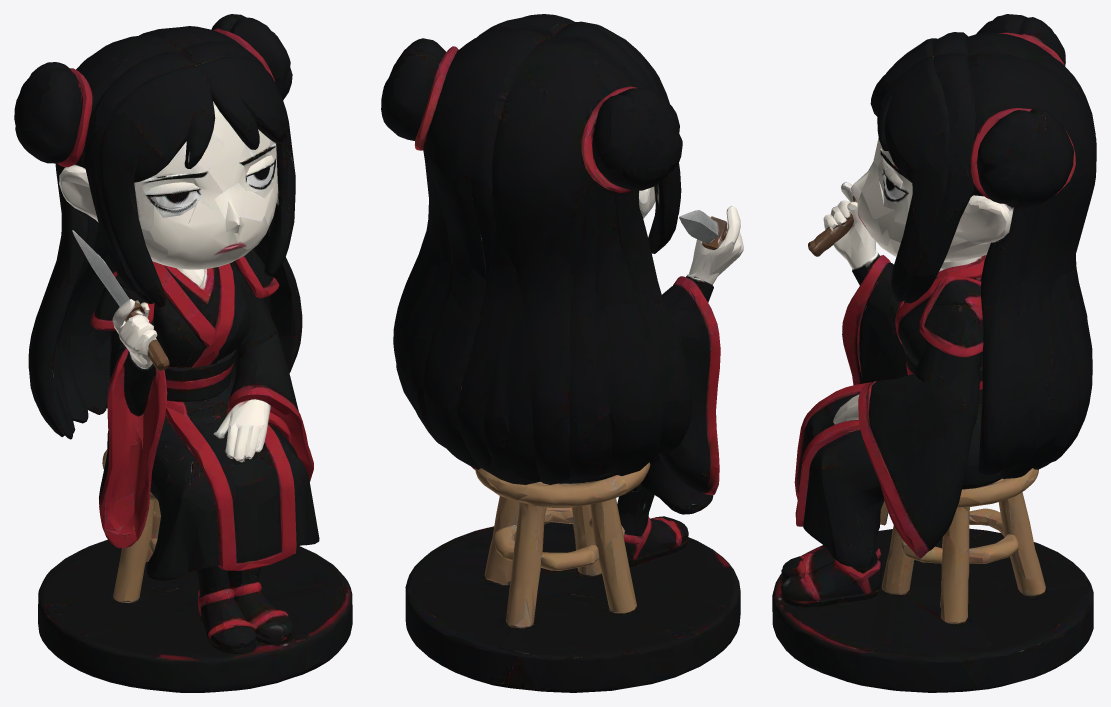
The model's file is mai2.glb.
The picture shows the model from 3 angles, left to right: view 1: azimuth 30°, elevation 25°; view 2: azimuth 150°, elevation 25°; view 3: azimuth 270°, elevation 25°; orthographic projection. The views are drawn at different scales.
Parts seen in each view (by area): view 1: Mesh_0; view 2: Mesh_0; view 3: Mesh_0.
Part boxes in pixels (box(x1,y1,x2,y2)): Mesh_0: box(14, 14, 352, 692); Mesh_0: box(381, 14, 743, 692); Mesh_0: box(772, 14, 1096, 692).
Bounding box in the file's own units: 0.9505 × 1.9 × 0.9657.
Materials: 1 (1 with a texture image).
